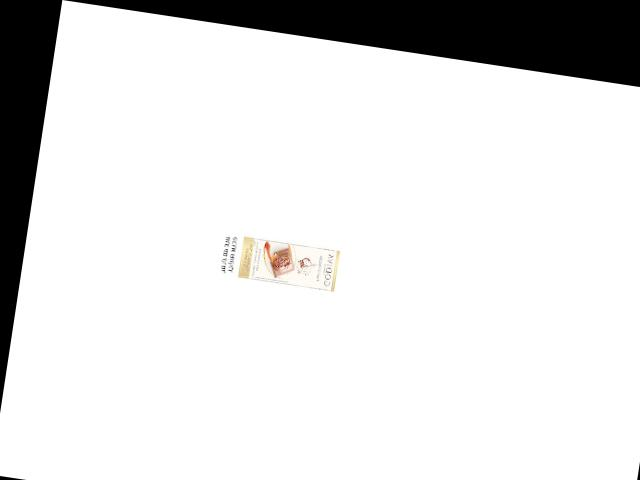chocolate: (234, 232, 342, 291)
